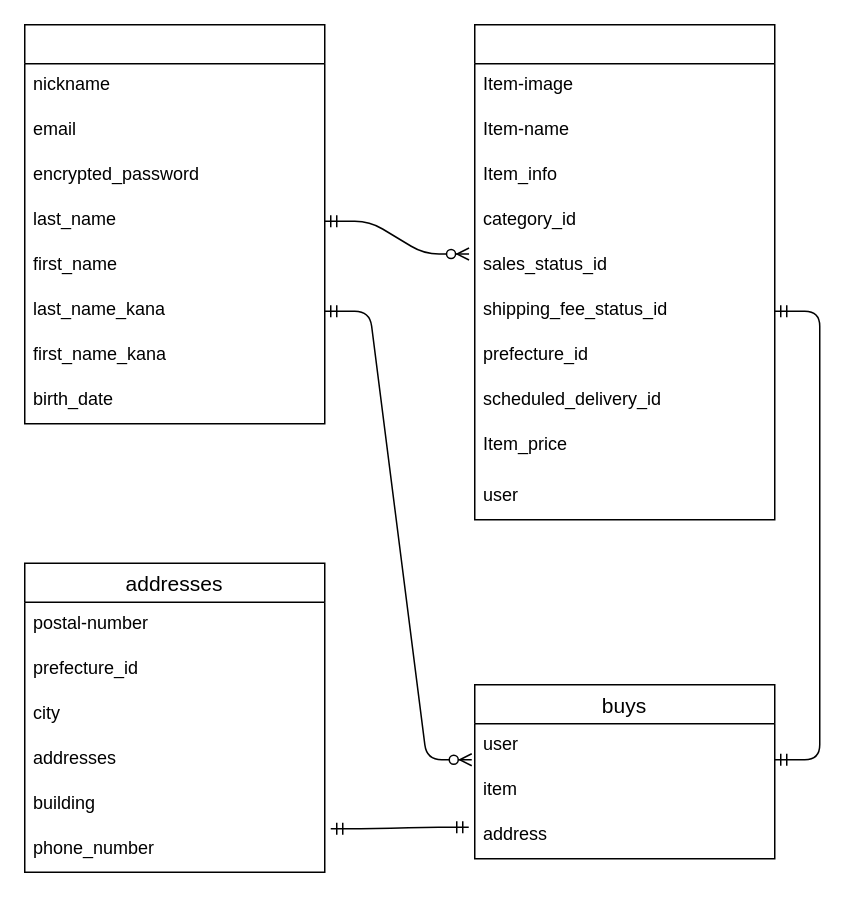
This 845x897 diagram has some shape labels left out. Each missing label, with the box of its shape:
items: (473, 23, 775, 520)
users: (23, 23, 325, 424)
